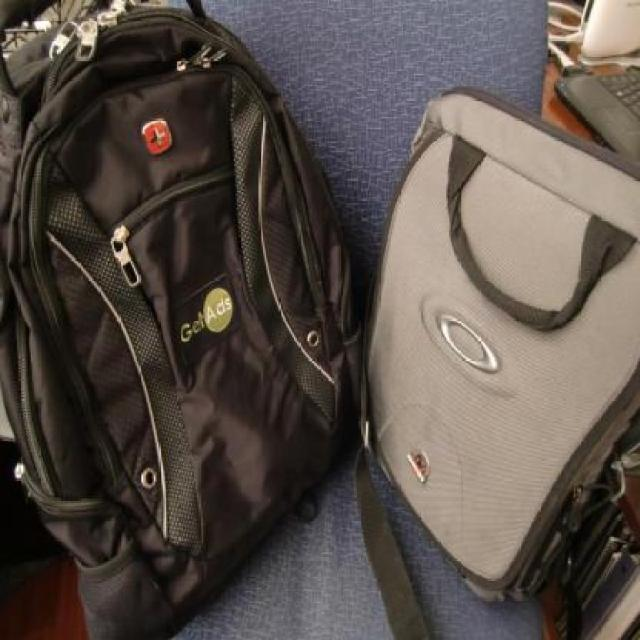backpack: (1, 0, 357, 640), (355, 75, 640, 608)
